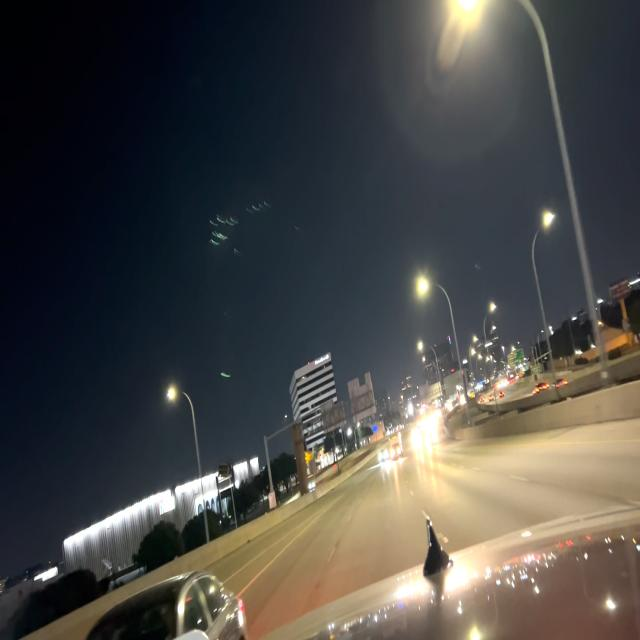back-of-sign: (348, 371, 376, 428), (320, 395, 347, 436)
